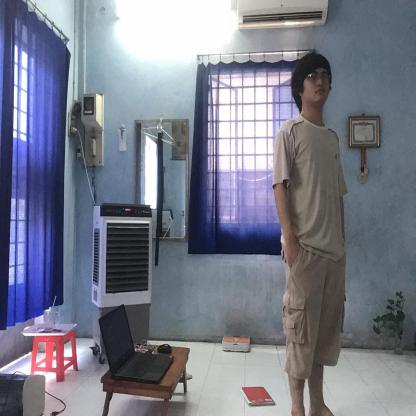person: (269, 48, 351, 413)
